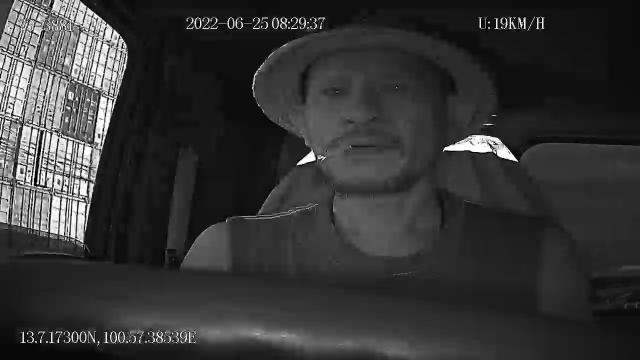SafeDriving: (312, 76, 353, 103)
Smoking: (317, 142, 353, 162)
